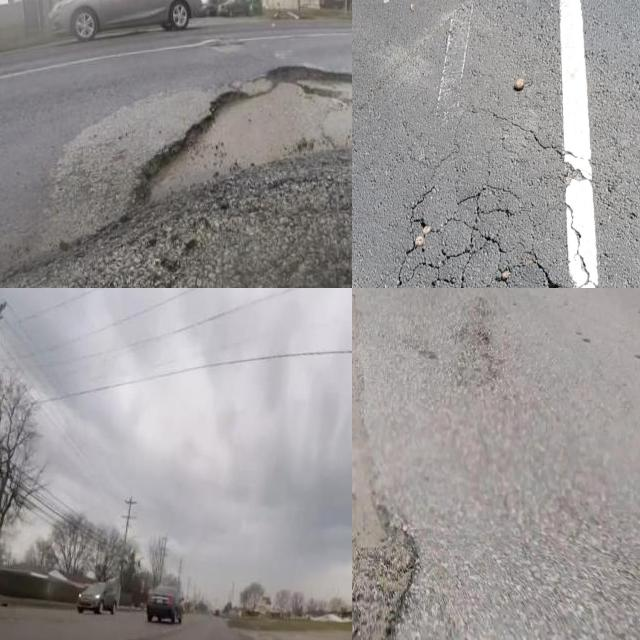Pothole: (120, 64, 352, 209), (149, 67, 352, 200), (352, 491, 423, 640), (456, 297, 497, 387)
